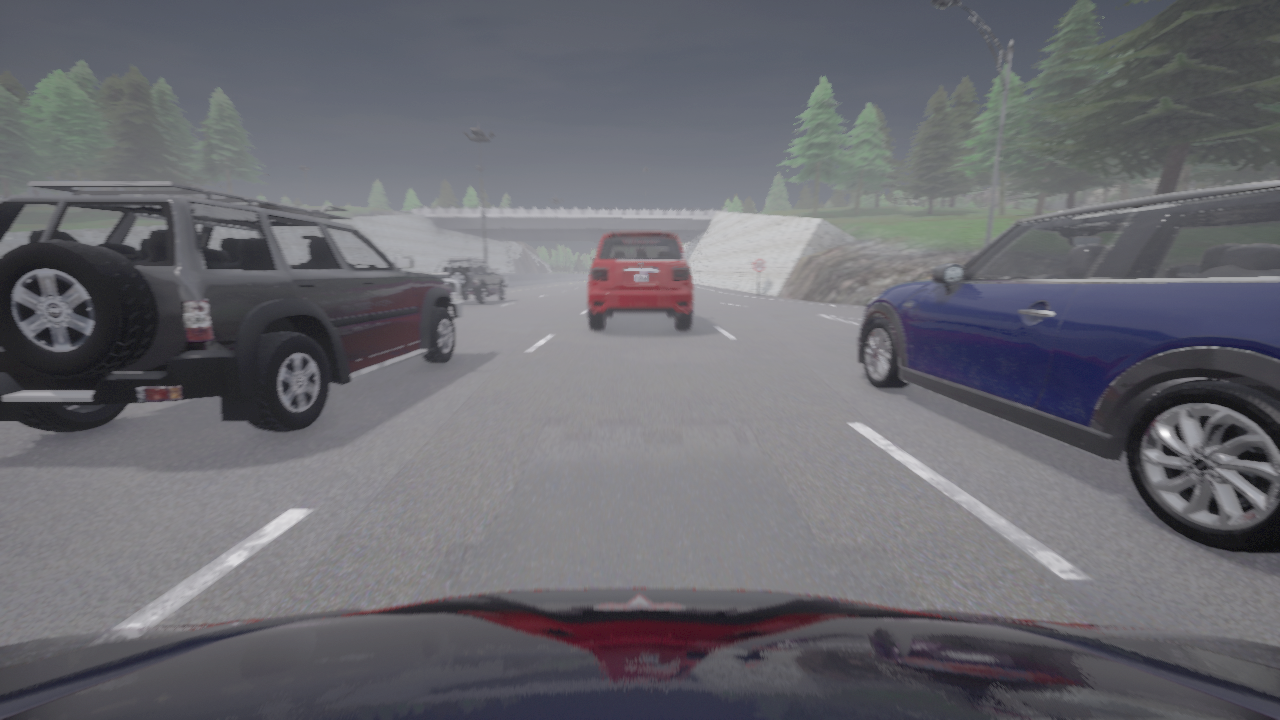cyclist: (0, 588, 1279, 719), (857, 181, 1279, 552), (0, 182, 463, 432), (588, 231, 692, 329), (432, 257, 507, 303)
